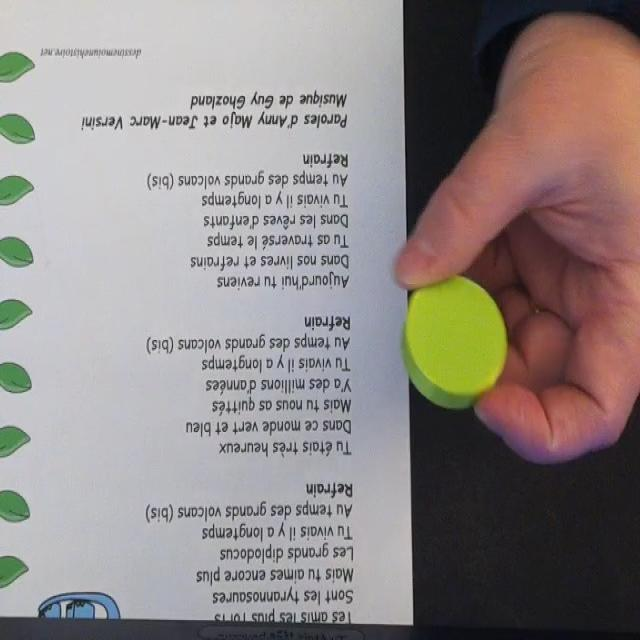round: (404, 271, 510, 411)
